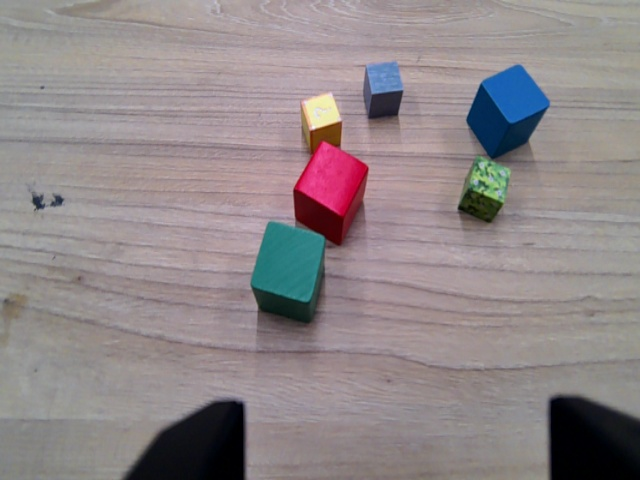grass: (457, 153, 515, 223)
lucky: (294, 89, 347, 156)
stone: (356, 59, 408, 121)
